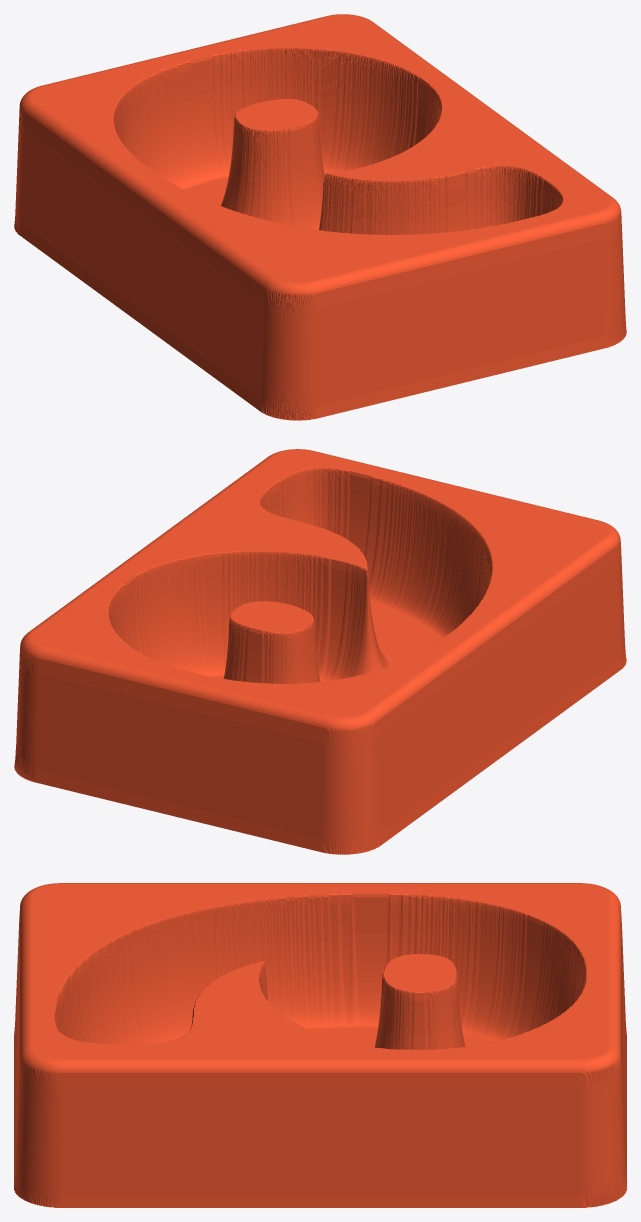
Rendered from mold.glb.
3 renders of one model, top to bottom at view 1: azimuth 30°, elevation 25°; view 2: azimuth 150°, elevation 25°; view 3: azimuth 270°, elevation 25°, orthographic. The views are drawn at different scales.
Parts seen in each view (by area): view 1: geometry_0; view 2: geometry_0; view 3: geometry_0.
Part boxes in pixels (x1,y1,x2,y2): geometry_0: (14, 14, 626, 420); geometry_0: (14, 449, 626, 854); geometry_0: (14, 883, 626, 1207).
Bounding box in the file's own units: 0.0866 × 0.0299 × 0.1178.
